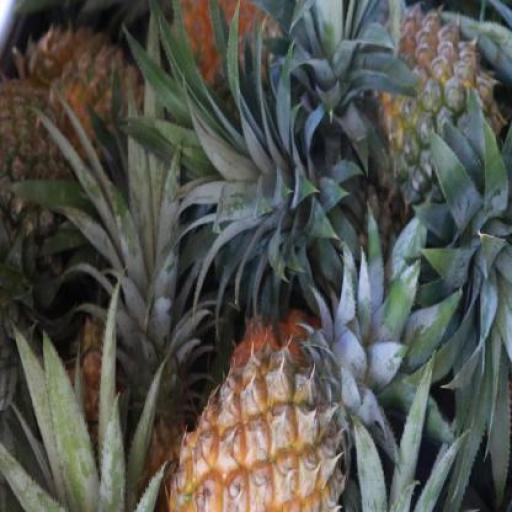------------------------------: (372, 1, 510, 225)
Pineapple - v8 v1: (167, 327, 351, 512)
